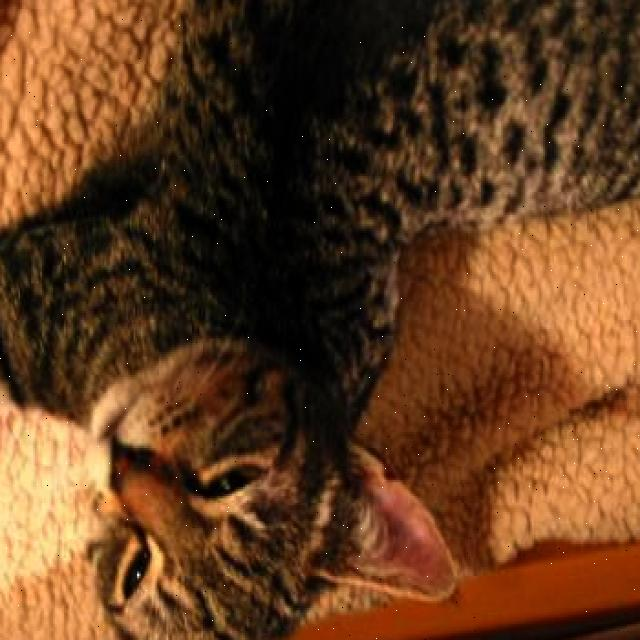Cat: (64, 290, 437, 640)
